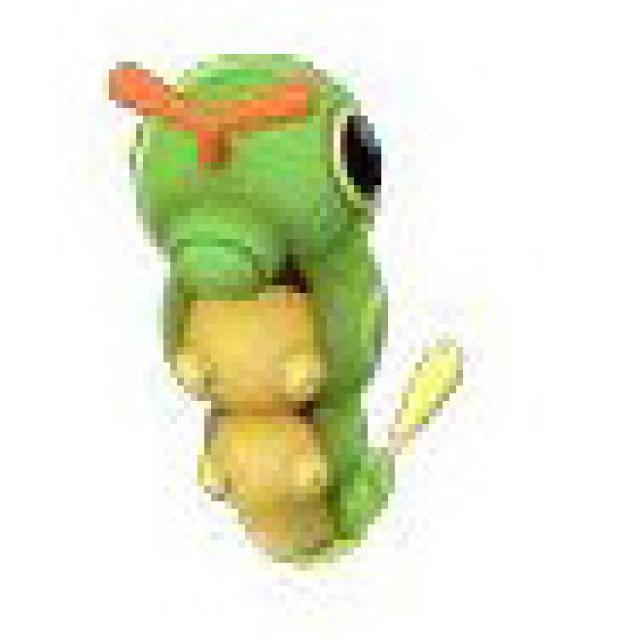Caterpie: (132, 48, 452, 561)
